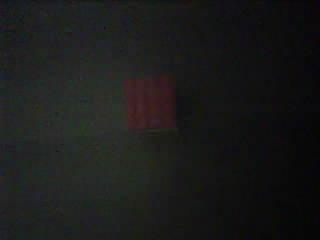lego: (123, 76, 180, 132)
